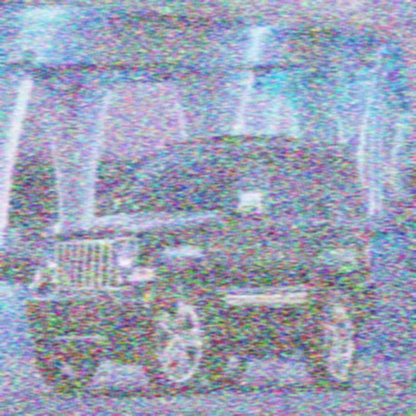Vehicle: (26, 132, 379, 399)
